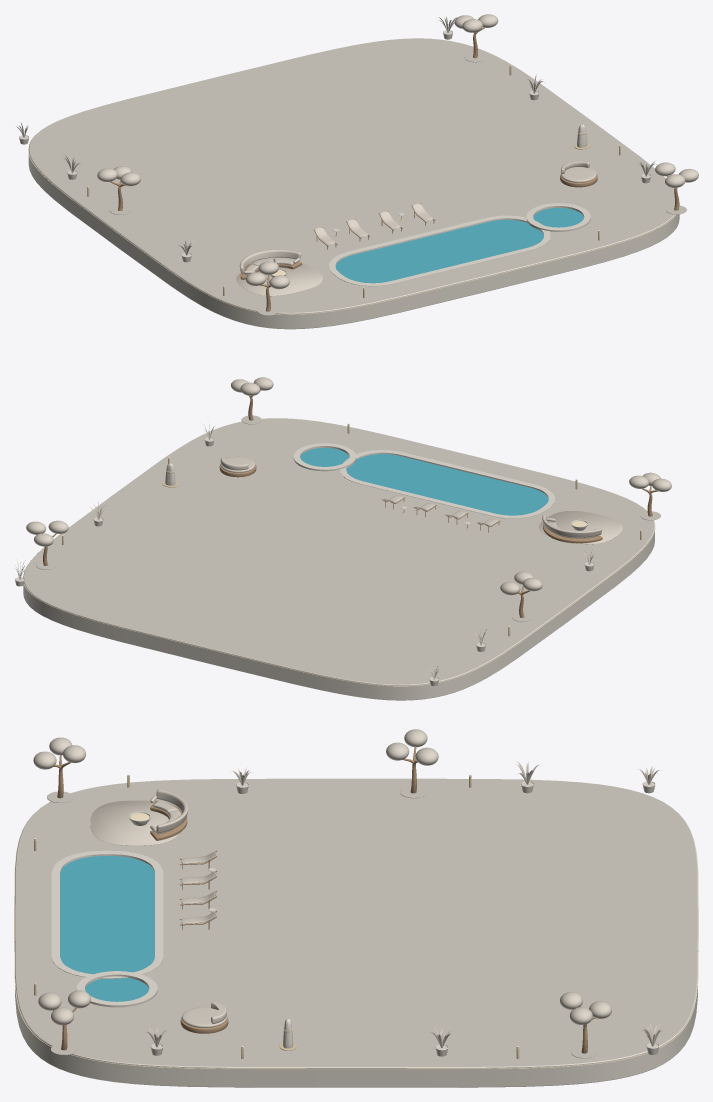
Rendered from Villa_Core.dae.
The picture shows the model from 3 angles, top to bottom: view 1: azimuth 30°, elevation 25°; view 2: azimuth 150°, elevation 25°; view 3: azimuth 270°, elevation 25°; orthographic projection. The views are drawn at different scales.
Parts seen in each view (by area): view 1: Site_Deck, Site_Water, Site_Coping, Site_Rug, Site_Lounge_Sofa, Site_Olive_1, Site_Olive_2, Site_Olive_3, Site_Olive_4, Site_Daybed; view 2: Site_Deck, Site_Water, Site_Coping, Site_Rug, Site_Olive_4, Site_Olive_3, Site_Lounge_Sofa, Site_Olive_1, Site_Olive_2, Site_Daybed; view 3: Site_Deck, Site_Water, Site_Coping, Site_Rug, Site_Olive_3, Site_Olive_1, Site_Olive_2, Site_Lounge_Sofa, Site_Olive_4, Site_Daybed.
Part boxes in pixels (<box>): Site_Deck: <box>28,38,679,329</box>; Site_Water: <box>335,208,583,283</box>; Site_Coping: <box>329,203,590,286</box>; Site_Rug: <box>236,263,322,296</box>; Site_Lounge_Sofa: <box>239,249,301,279</box>; Site_Olive_1: <box>246,261,289,315</box>; Site_Olive_2: <box>655,162,698,214</box>; Site_Olive_3: <box>97,166,140,214</box>; Site_Olive_4: <box>454,14,498,62</box>; Site_Daybed: <box>560,161,597,187</box>; Site_Deck: <box>23,418,655,700</box>; Site_Water: <box>300,448,548,515</box>; Site_Coping: <box>293,443,555,518</box>; Site_Rug: <box>539,510,622,544</box>; Site_Olive_4: <box>26,520,68,569</box>; Site_Olive_3: <box>500,571,542,621</box>; Site_Lounge_Sofa: <box>542,515,602,543</box>; Site_Olive_1: <box>629,472,671,520</box>; Site_Olive_2: <box>231,377,273,424</box>; Site_Daybed: <box>219,456,256,477</box>; Site_Deck: <box>14,778,698,1087</box>; Site_Water: <box>60,856,154,1001</box>; Site_Coping: <box>51,850,163,1007</box>; Site_Rug: <box>90,800,178,845</box>; Site_Olive_3: <box>386,729,438,798</box>; Site_Olive_1: <box>33,737,85,802</box>; Site_Olive_2: <box>38,990,90,1055</box>; Site_Lounge_Sofa: <box>150,789,188,840</box>; Site_Olive_4: <box>560,992,611,1058</box>; Site_Daybed: <box>180,1001,228,1033</box>.
Bounding box in the file's own units: 36.06 × 36.06 × 4.61.
